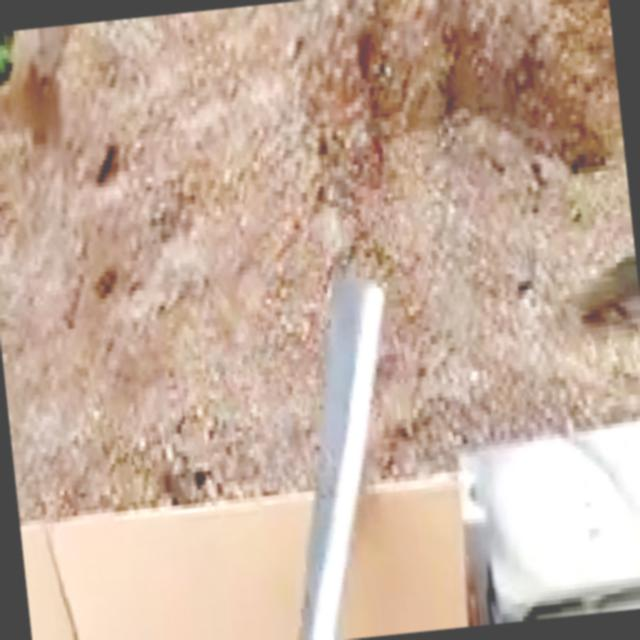eto: (298, 259, 382, 640)
